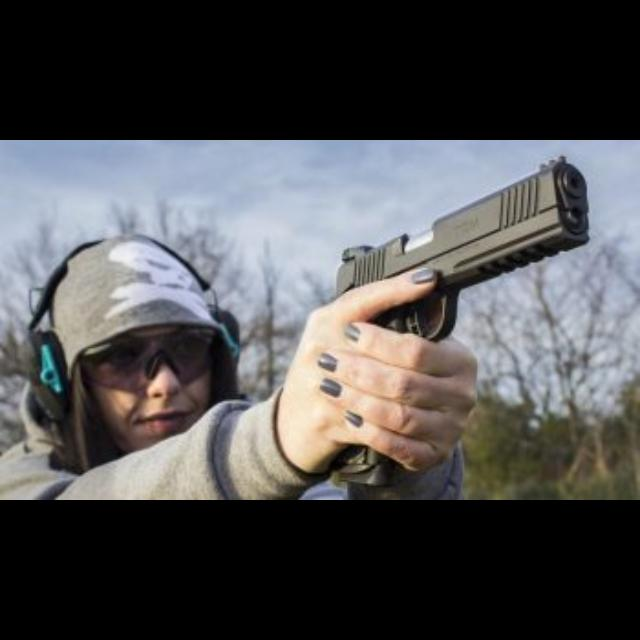handgun: (330, 152, 596, 348)
